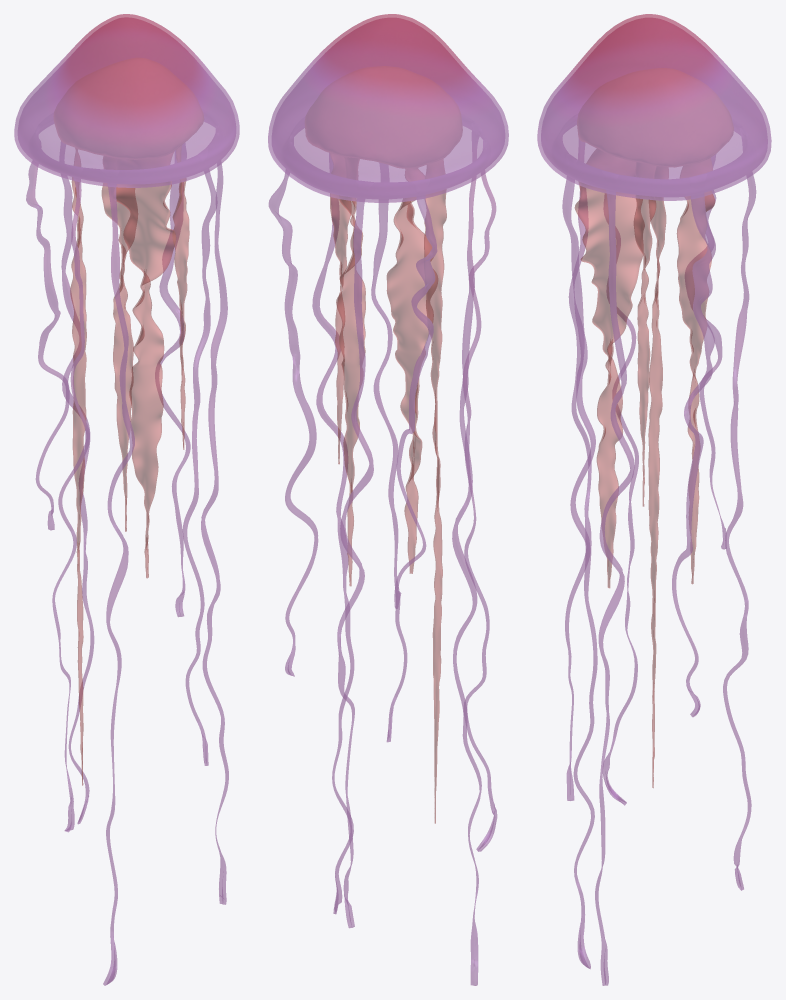
Rendered from jellyfish.glb.
The picture shows the model from 3 angles, left to right: view 1: azimuth 30°, elevation 25°; view 2: azimuth 150°, elevation 25°; view 3: azimuth 270°, elevation 25°; orthographic projection. The views are drawn at different scales.
Visible parts, largest first — view 1: Jelly.group_2, Jelly.head.001_1; view 2: Jelly.group_2, Jelly.head.001_1; view 3: Jelly.group_2, Jelly.head.001_1.
Part boxes in pixels (x1,y1,x2,y2): Jelly.group_2: (14,14,239,985); Jelly.head.001_1: (54,58,203,785); Jelly.group_2: (268,14,508,985); Jelly.head.001_1: (305,66,462,823); Jelly.group_2: (537,14,771,985); Jelly.head.001_1: (574,68,733,787).
Size of the model in its own units: 1.37 by 6.11 by 1.33.
2 materials, 1 textured.
